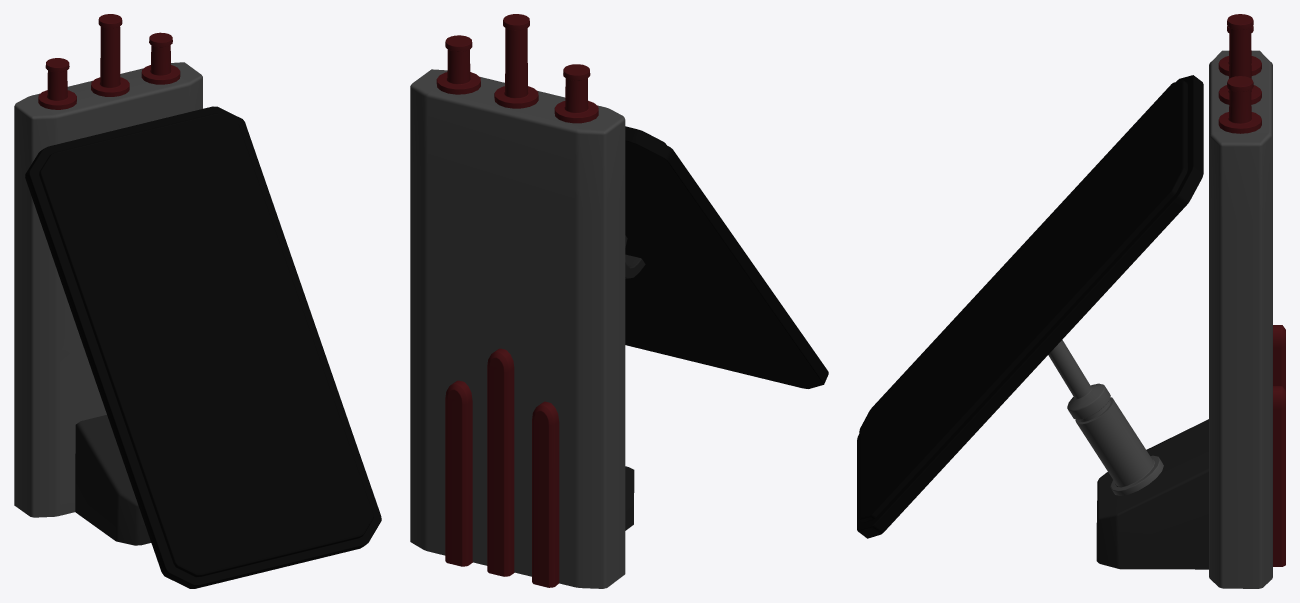
The model's file is colony_Solar_panel.glb.
3 renders of one model, left to right at view 1: azimuth 30°, elevation 25°; view 2: azimuth 150°, elevation 25°; view 3: azimuth 270°, elevation 25°, orthographic. The views are drawn at different scales.
Visible parts, largest first — view 1: Solar_panel; view 2: Solar_panel; view 3: Solar_panel.
Boxes of the visible parts, x1,y1,x2,y2 form: Solar_panel: [14, 14, 381, 588]; Solar_panel: [410, 14, 828, 588]; Solar_panel: [857, 14, 1285, 588].
Size of the model in its own units: 198 by 415 by 308.
1 material, 1 textured.
